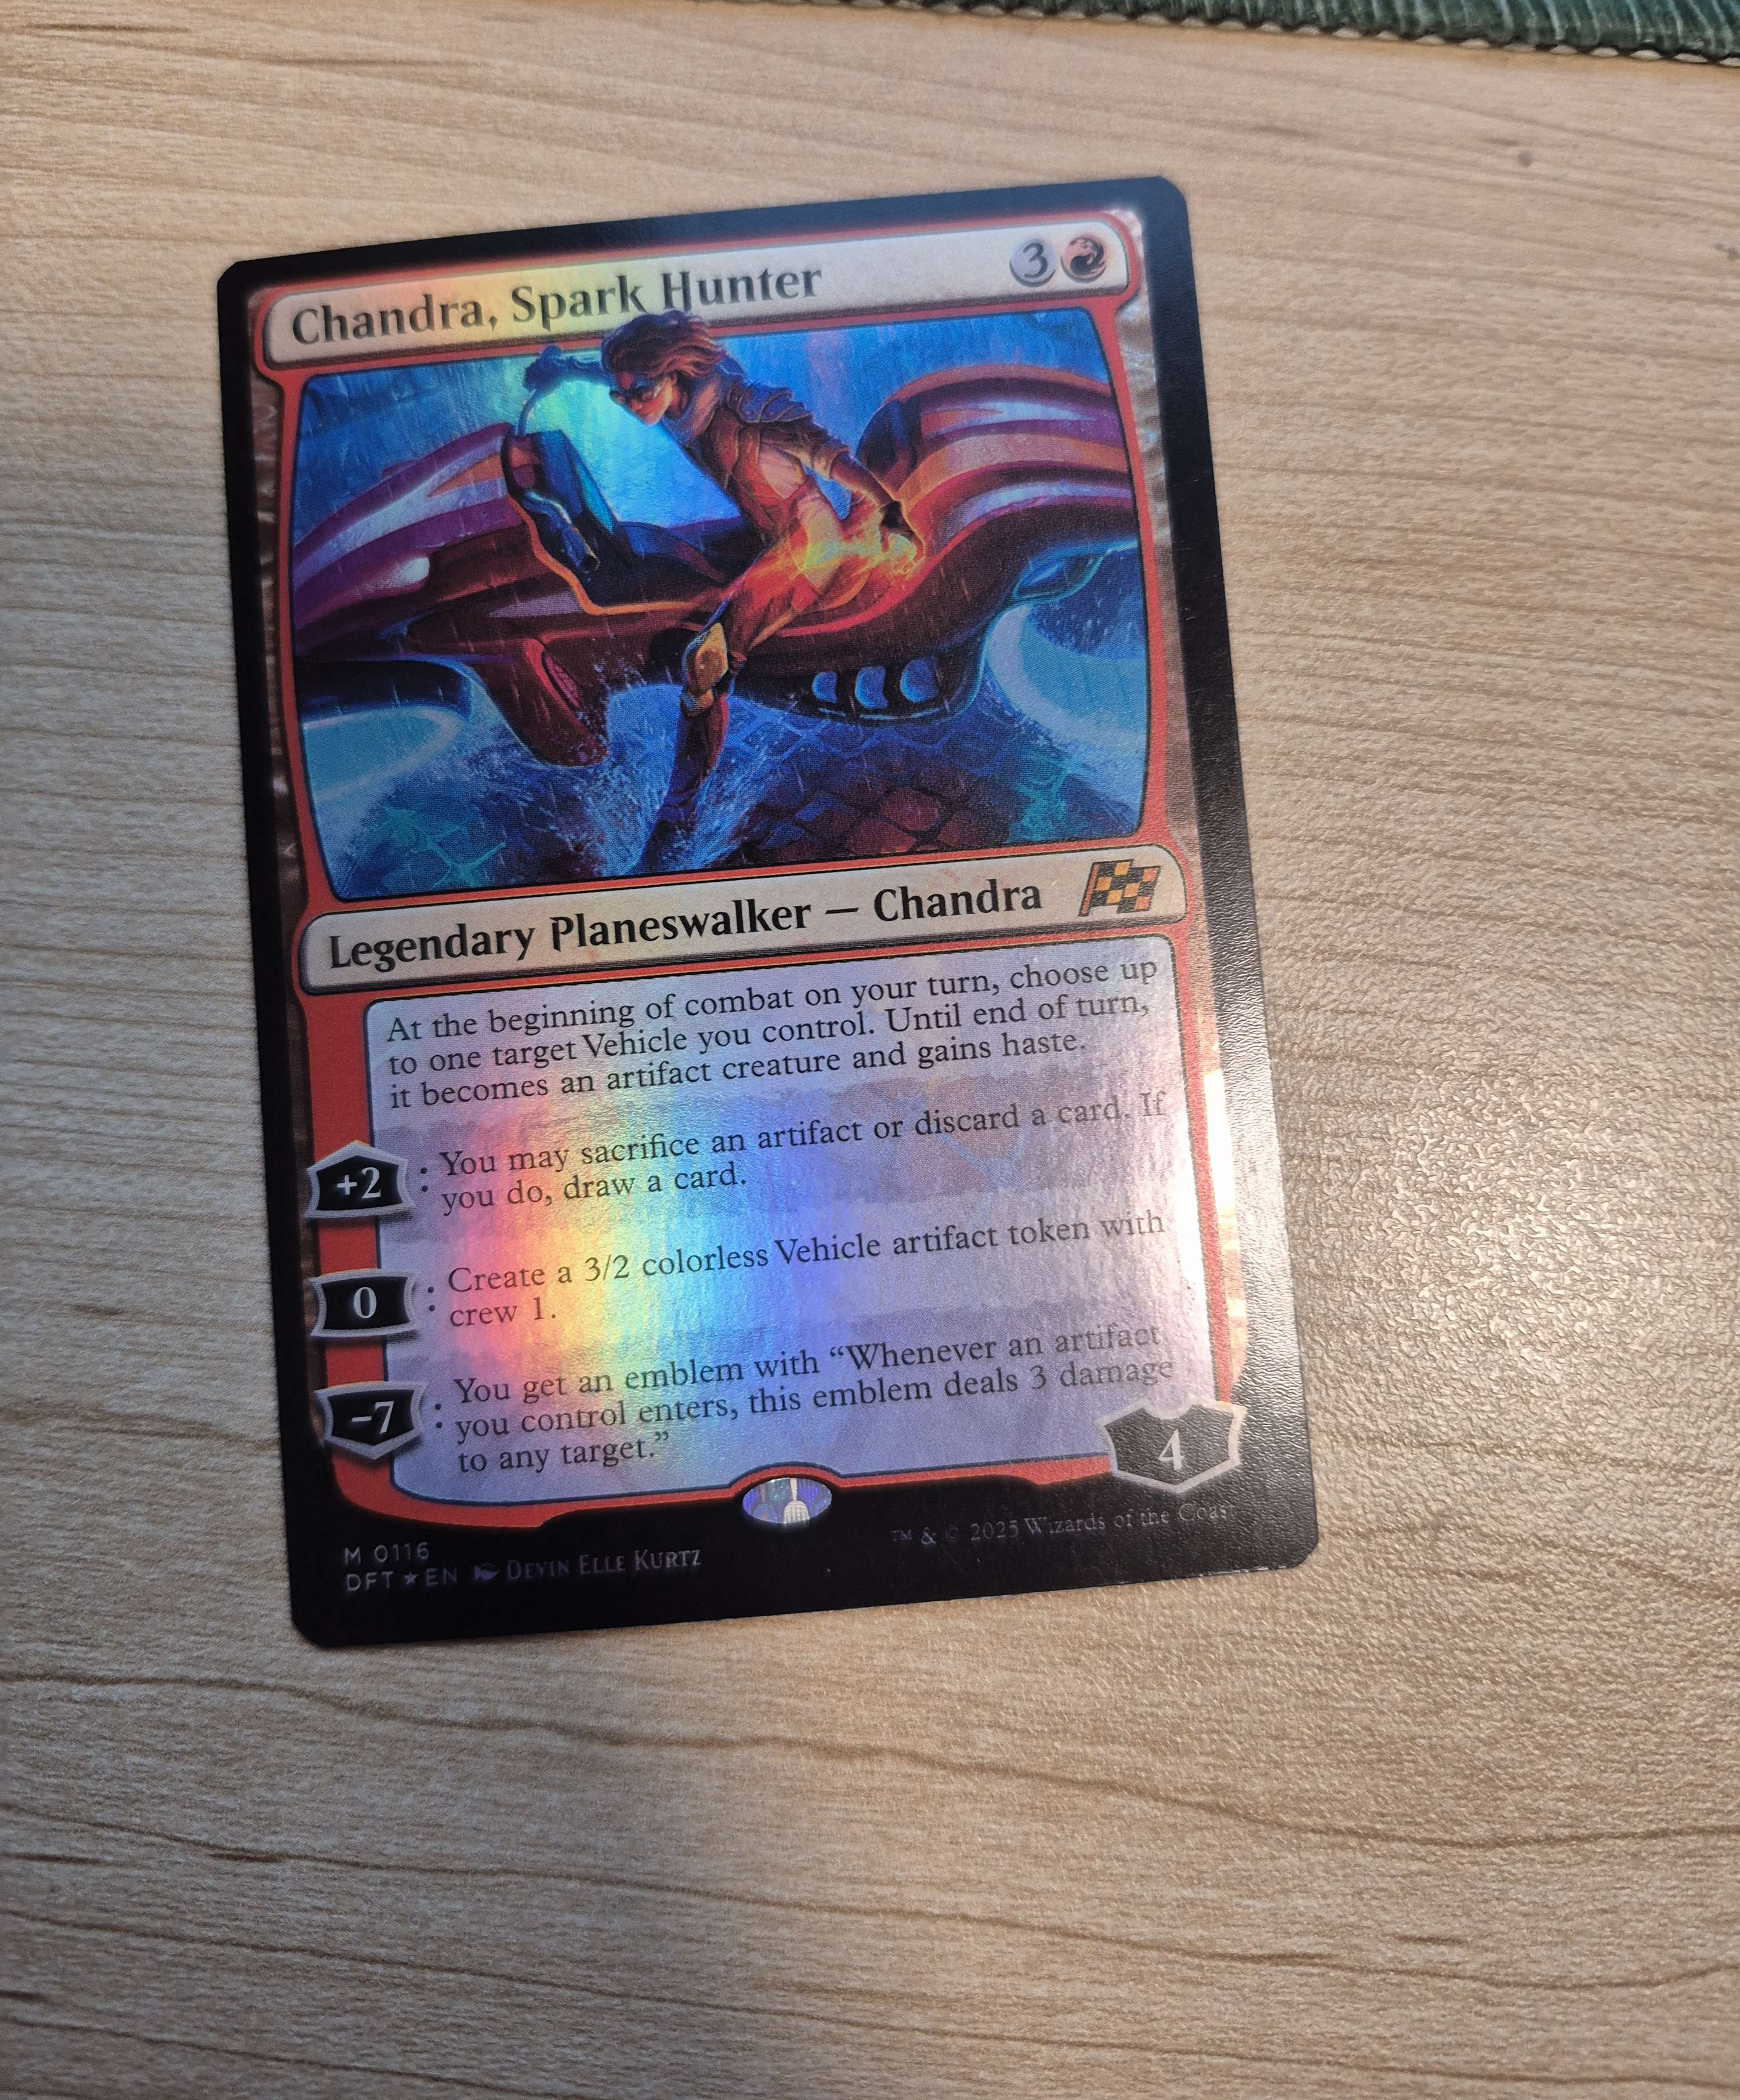mtg_card: (188, 197, 1390, 1633)
